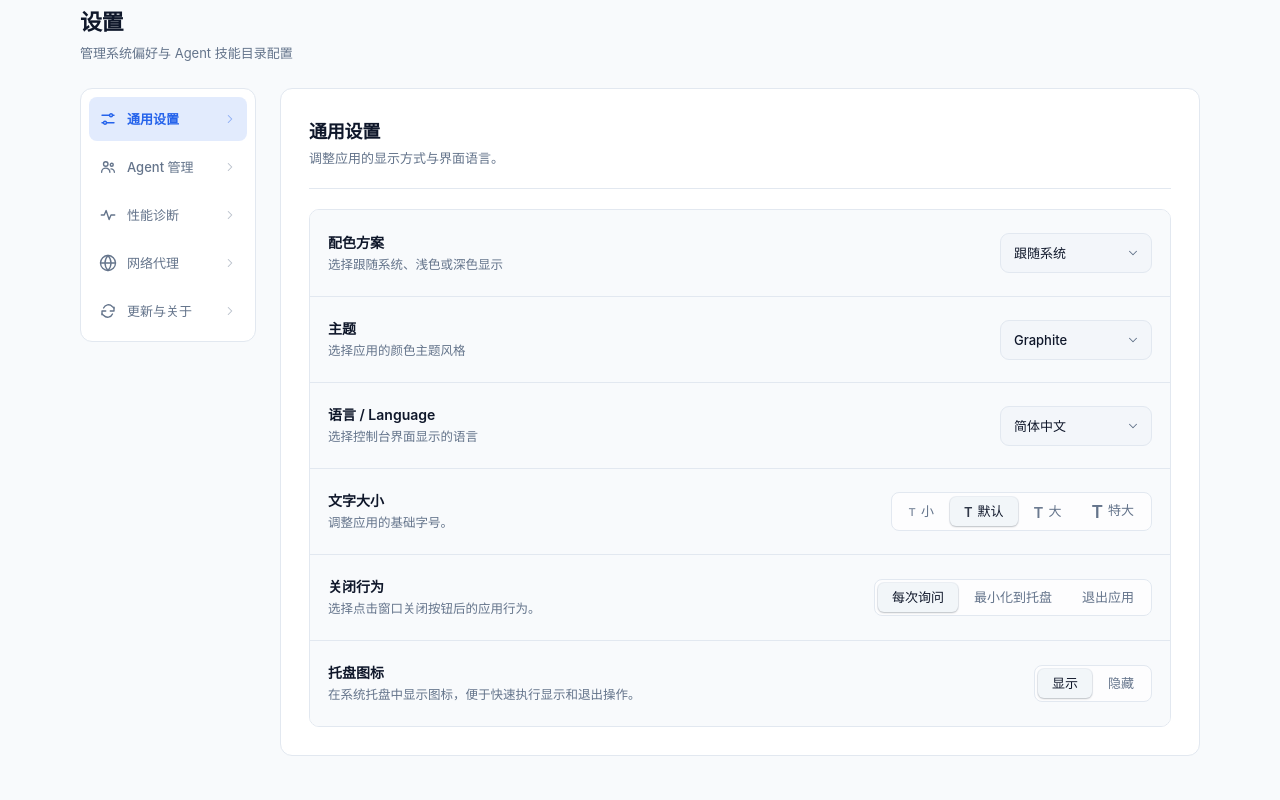
Settings route & i18n / Theme Switcher › offers only Chinese and English in a language dropdown and switches immediately
Expected: the heading "设置" is shown, x1=80 y1=9 x2=123 y2=35
Expected: the heading "语言 / Language" is shown, x1=328 y1=406 x2=435 y2=423
Select "English" in the dropdown labelled "语言 / Language" at (1076, 426), box x1=1000 y1=406 x2=1152 y2=446
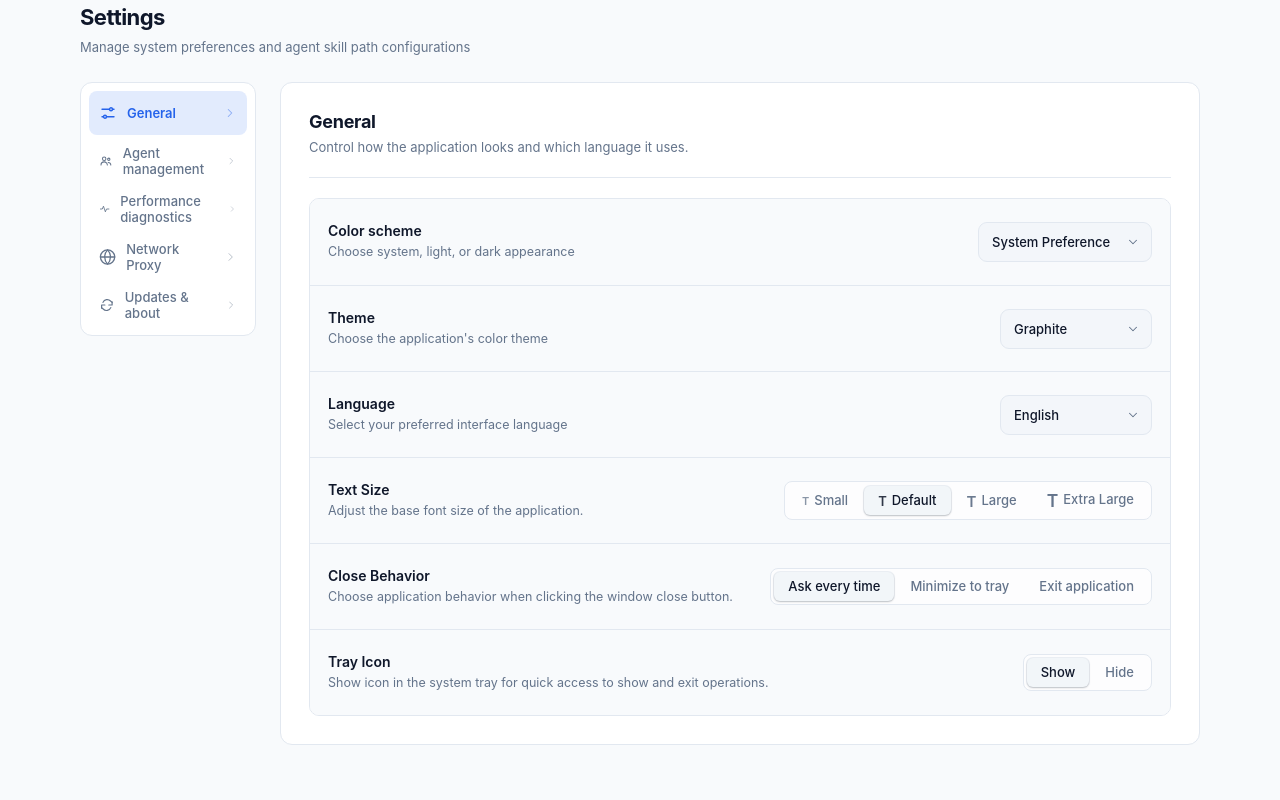
Expected: the heading "Settings" is shown, x1=80 y1=4 x2=165 y2=30
Now the heading "Color scheme" is shown, box x1=328 y1=222 x2=422 y2=239
Click the button "Agent management".
click(168, 160)  # box x1=89 y1=138 x2=247 y2=182
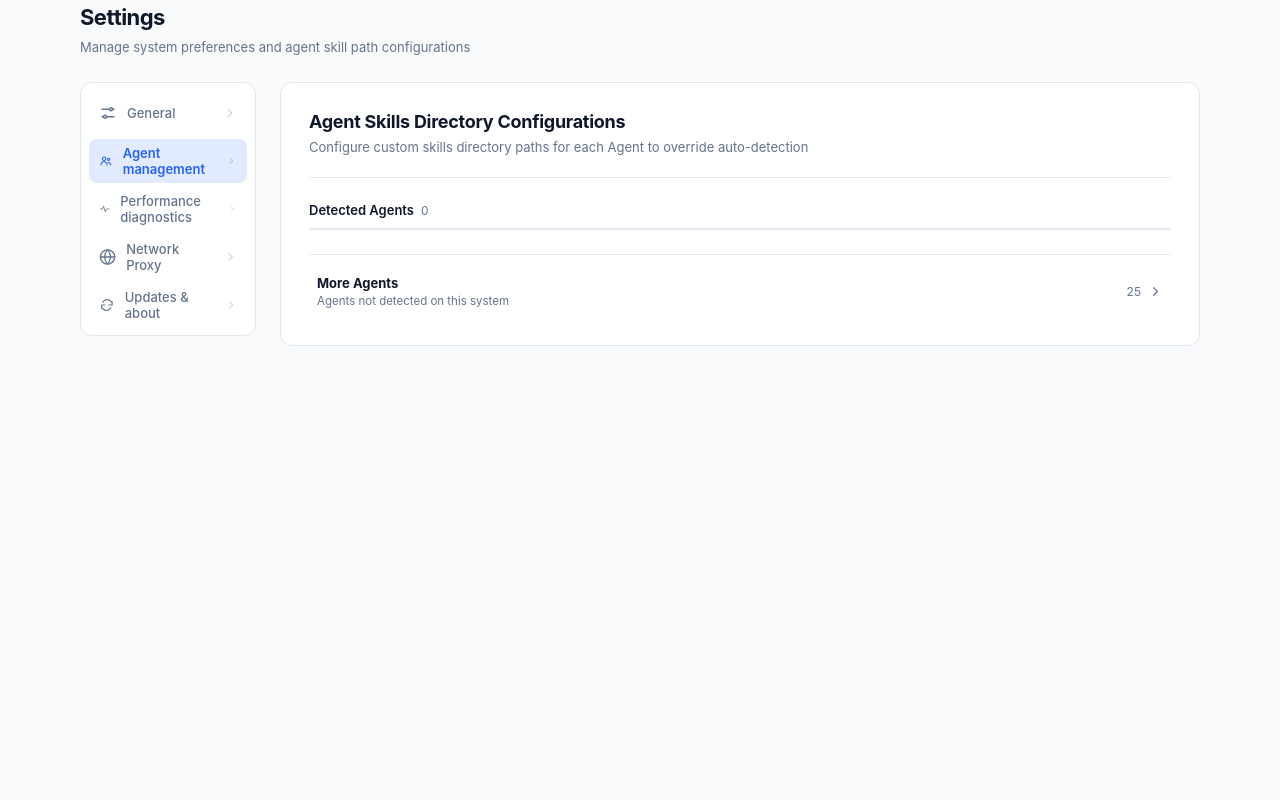
Now the heading "Agent Skills Directory Configurations" is shown, box x1=309 y1=110 x2=625 y2=132
